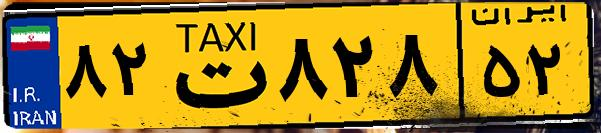2: (330, 28, 385, 110), (525, 38, 570, 115), (110, 28, 158, 98)
5: (475, 38, 525, 113)
8: (270, 28, 330, 110), (385, 28, 445, 110), (57, 26, 110, 100)
ت: (158, 12, 270, 120)
